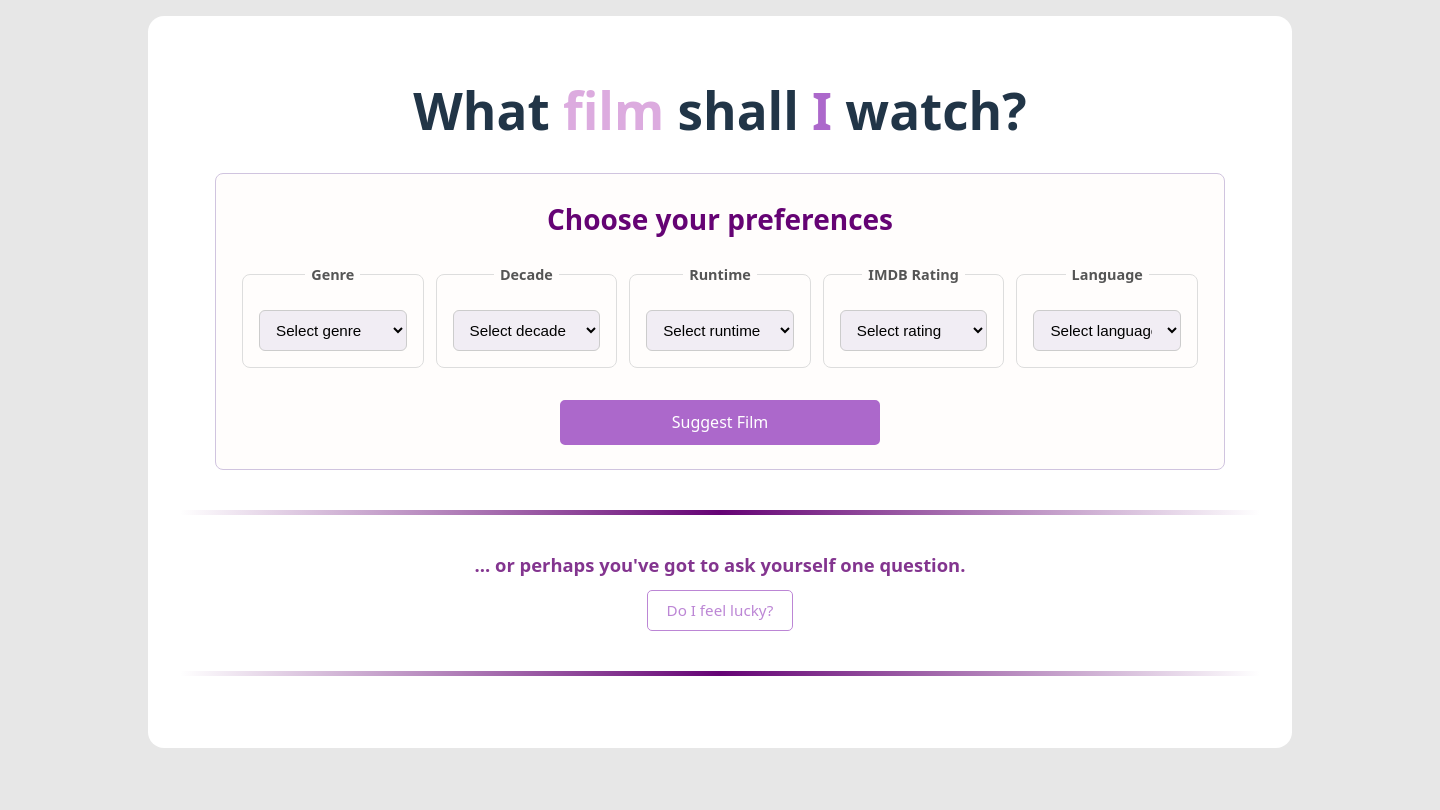
it: App Component › "Lucky" endpoint › displays an error message if a fetch fails
The width and height of the screenshot is (1440, 810).
click lucky button
What coordinates should you click on to do the following:
click the button "Do I feel lucky?"
I would click on:
 (720, 610)
Its box is left=647, top=590, right=793, bottom=630.
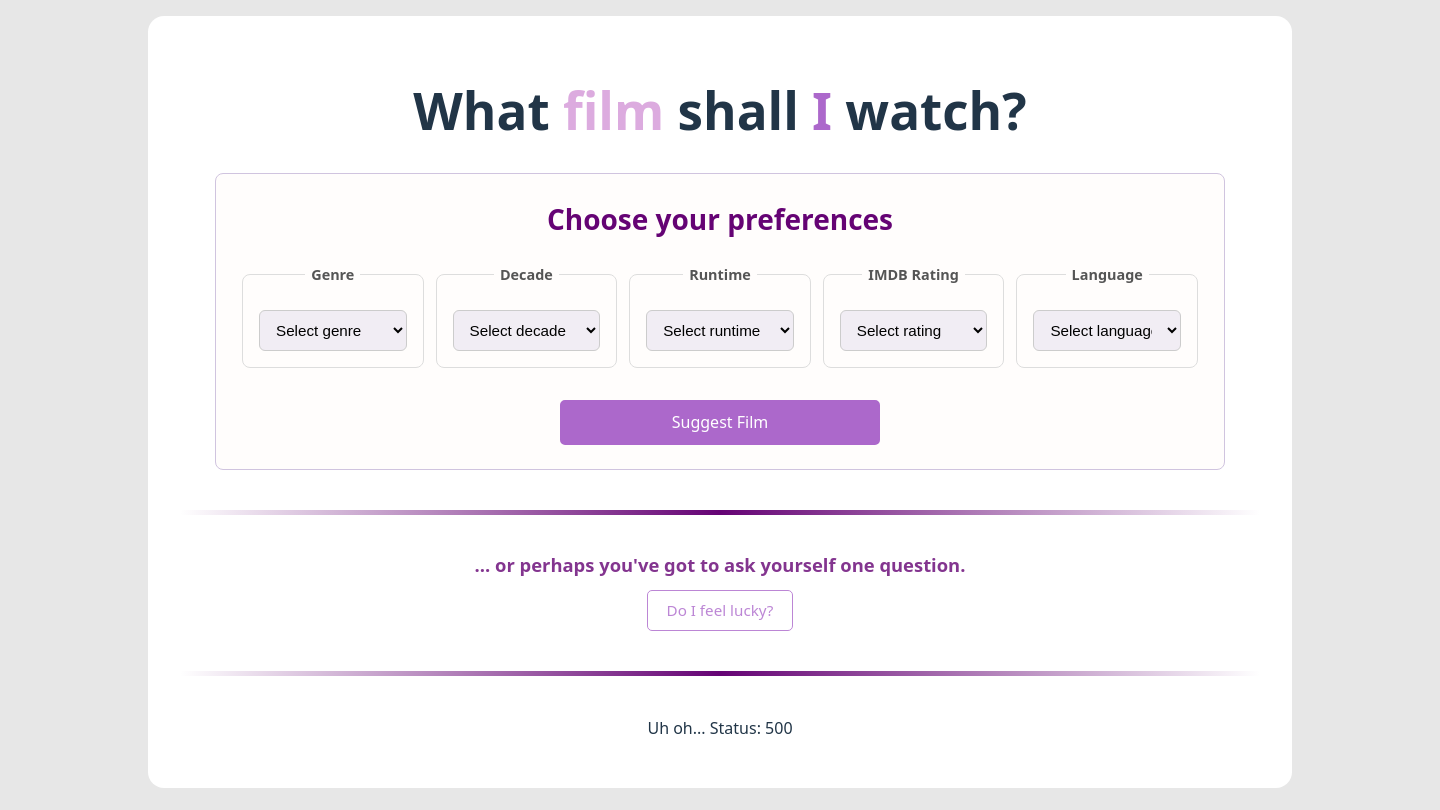
Result: the message reads "Uh oh... Status: 500" at left=647, top=716, right=792, bottom=738
